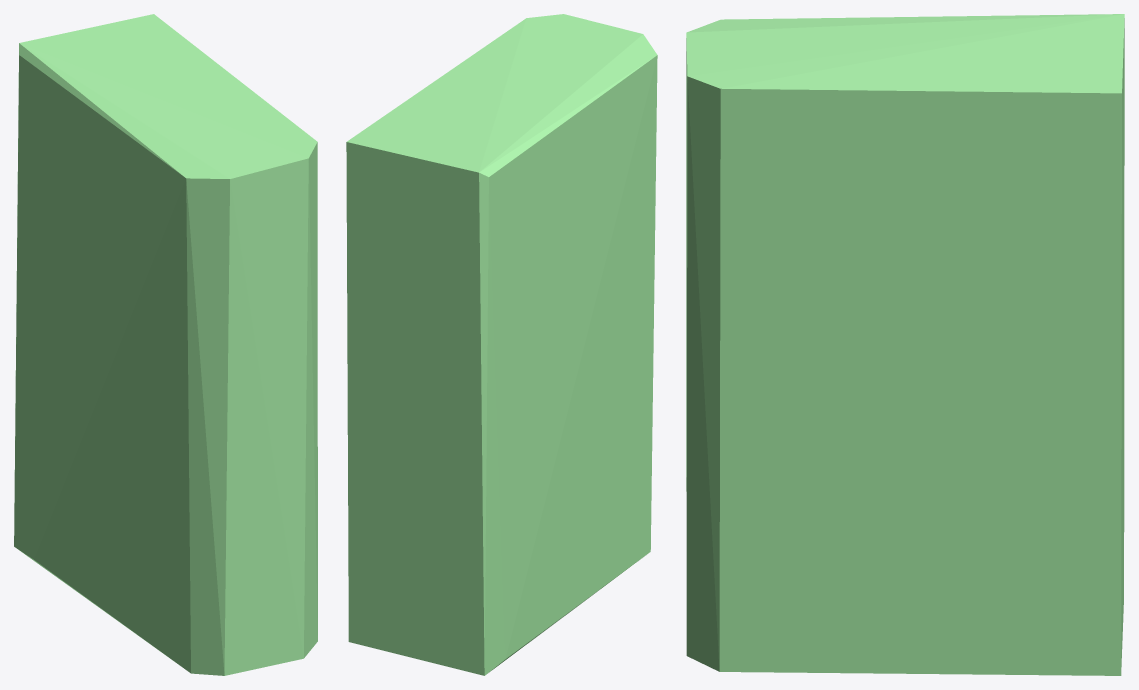
File: exported_panda_rightFinger_coll_6.dae
3 renders of one model, left to right at view 1: azimuth 30°, elevation 25°; view 2: azimuth 150°, elevation 25°; view 3: azimuth 270°, elevation 25°, orthographic. The views are drawn at different scales.
Parts seen in each view (by area): view 1: node; view 2: node; view 3: node.
Part boxes in pixels (x1,y1,x2,y2): node: (14, 14, 317, 675); node: (346, 14, 657, 675); node: (686, 14, 1124, 675).
Size of the model in its own units: 0.00607 by 0.021 by 0.0142.
